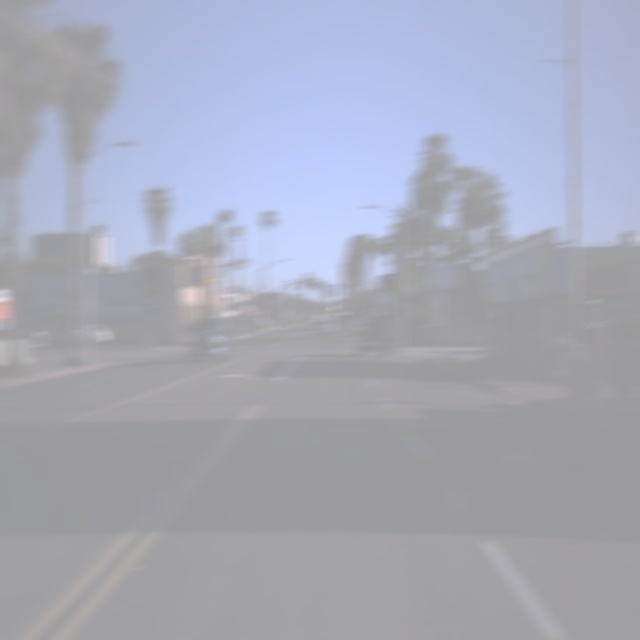go: (364, 295, 369, 312)
go traffic light: (364, 295, 369, 312)
